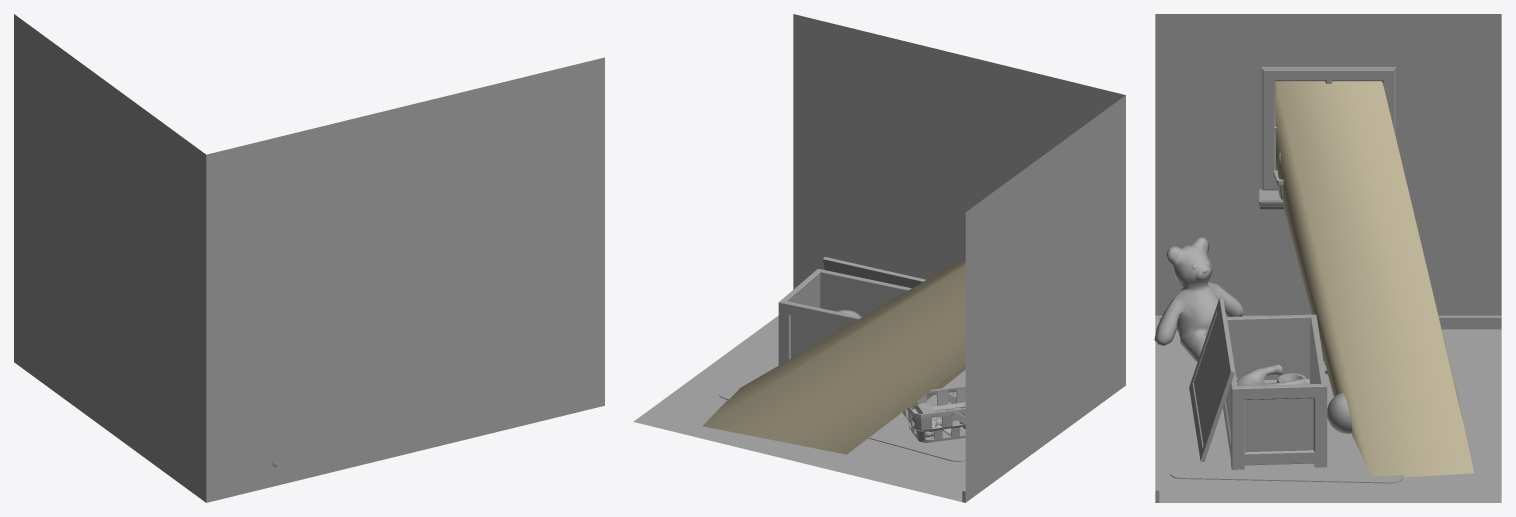
The model's file is Toy Box Scene.fbx.
3 views of the same model, side by side, from view 1: azimuth 30°, elevation 25°; view 2: azimuth 150°, elevation 25°; view 3: azimuth 270°, elevation 25° (orthographic). The views are drawn at different scales.
Parts seen in each view (by area): view 1: Wall1, Wall2; view 2: Wall1, Wall2, Lightbeam2, Floor, Box_Base, Rug, Basket1, Box_Lid; view 3: Wall2, Lightbeam2, Floor, Box_Base, Rug, Bear, Box_Lid, WindowFrame, WallTrim2, WallTrim1, SpaceDogRetop, Ball1 (+1 smaller).
Part boxes in pixels (x1,y1,x2,y2): Wall1: [206, 57, 604, 502]; Wall2: [14, 14, 206, 502]; Wall1: [793, 14, 1125, 289]; Wall2: [965, 95, 1125, 502]; Lightbeam2: [702, 257, 965, 454]; Floor: [633, 315, 965, 501]; Box_Base: [778, 268, 911, 365]; Rug: [718, 353, 965, 461]; Basket1: [902, 385, 965, 442]; Box_Lid: [823, 257, 926, 288]; Wall2: [1155, 14, 1501, 315]; Lightbeam2: [1276, 81, 1473, 477]; Floor: [1159, 329, 1501, 502]; Box_Base: [1223, 314, 1327, 469]; Rug: [1169, 349, 1403, 483]; Bear: [1154, 237, 1243, 362]; Box_Lid: [1189, 298, 1234, 461]; WindowFrame: [1261, 67, 1395, 190]; WallTrim2: [1155, 315, 1501, 329]; WallTrim1: [1155, 315, 1159, 502]; SpaceDogRetop: [1236, 364, 1310, 385]; Ball1: [1327, 393, 1352, 433].
Bounding box in the file's own units: 217 × 184 × 182.
